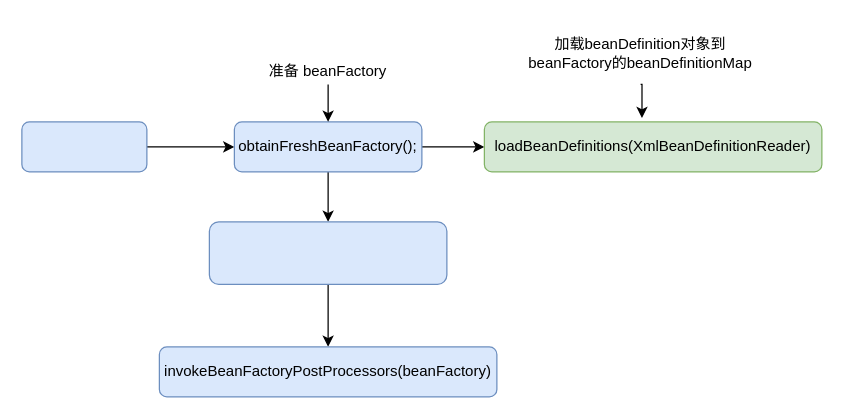
The diagram is 844 pixels wide and 419 high, and some of its shapes have lost their labels. The shapes that lost their labels are listed below. From the top down, each one's box as (x1, y1, x2, y2) in pixels, then its label:
(21, 121, 147, 172): refresh()
(208, 221, 447, 284): prepareBeanFactory(beanFactory) 配置标准的环境
